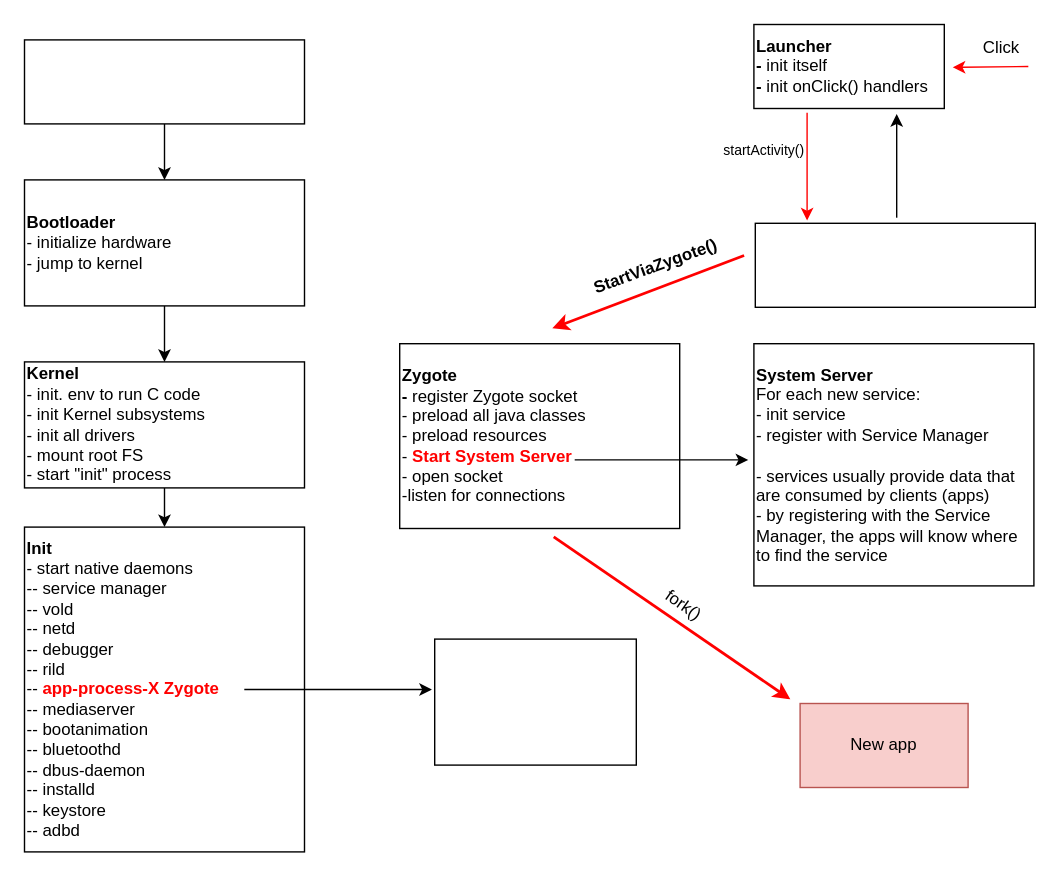
Some shapes in this 1064 by 876 pixel diagram are drawn without their labels. Here are the shapes that lost their labels. From the top down, the centre of each, then its label:
pixel 163 81: Power button pressed CPU starts
pixel 894 264: Activity Manager - init itself - send intent.CATEGORY_HOME
pixel 534 701: Android Runtime - start s Dalvik VM - call Zygote's main()
